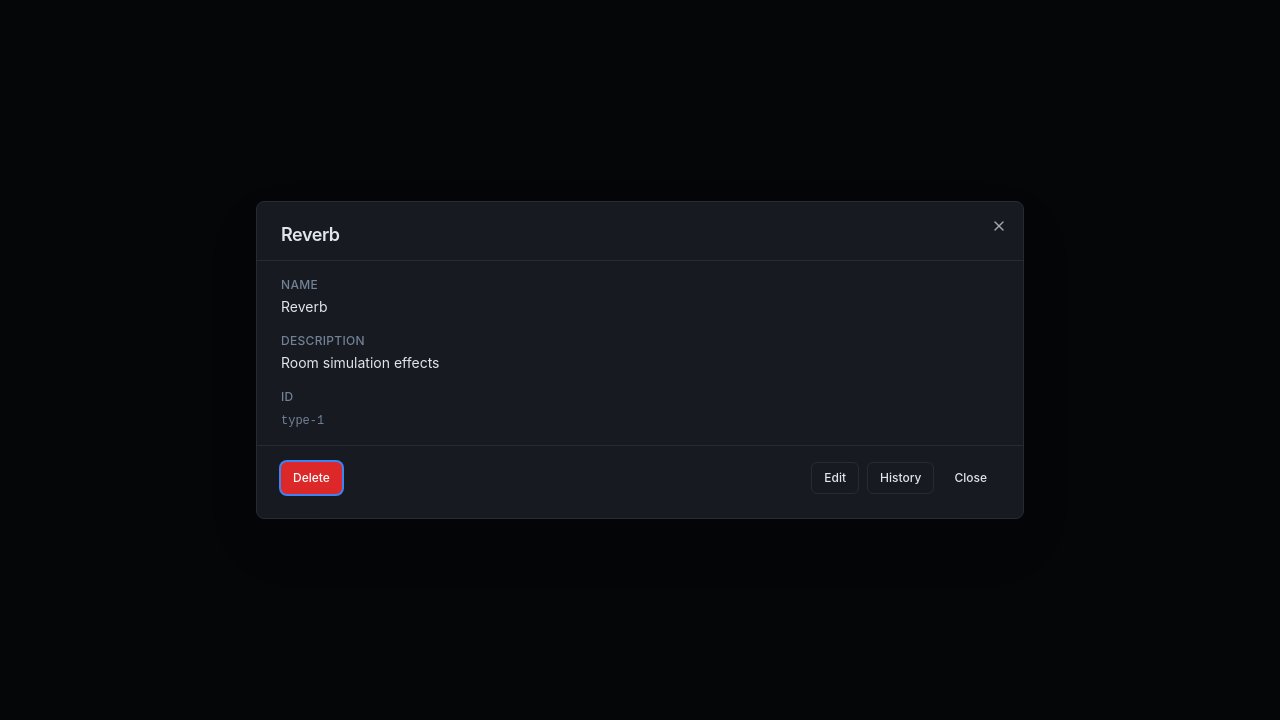
Test: ConfigModal — view mode › shows edit title when editing an existing record
The image size is (1280, 720).
Click the button "Edit".
click(835, 478)  # box 811,462 -> 859,494
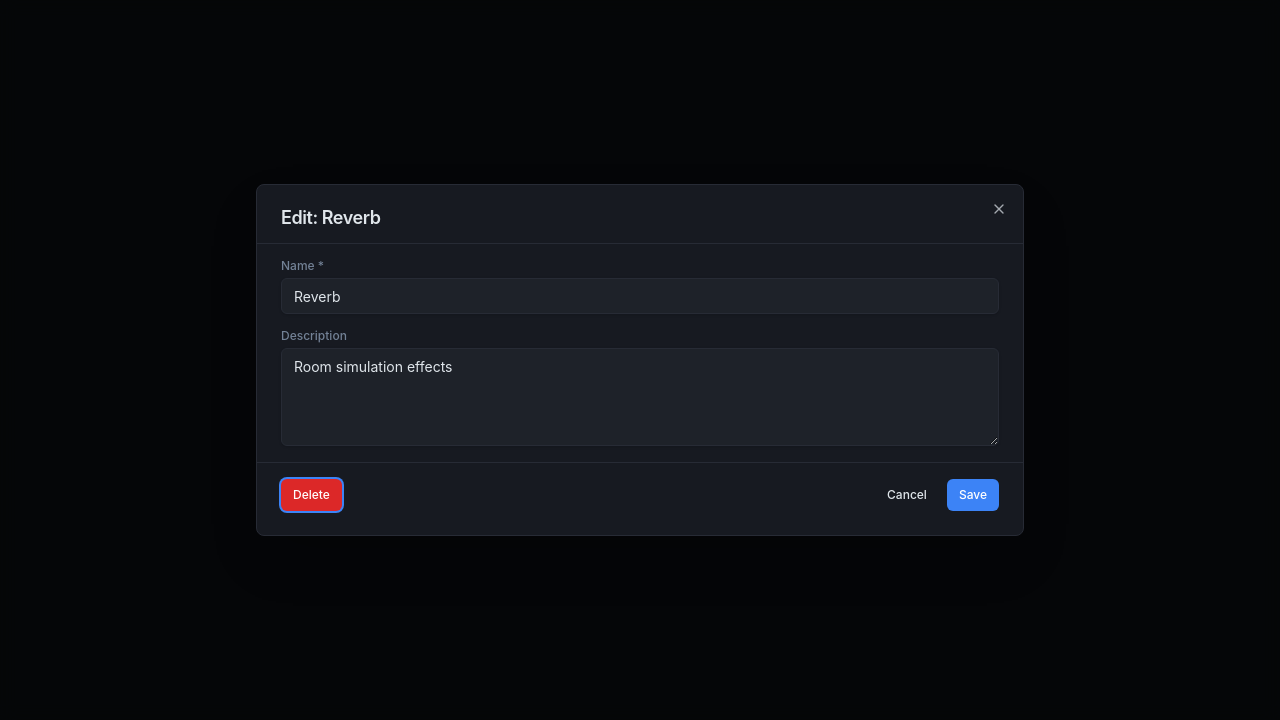
Result: the heading "Edit: Reverb" is shown at 281,207 -> 380,228
